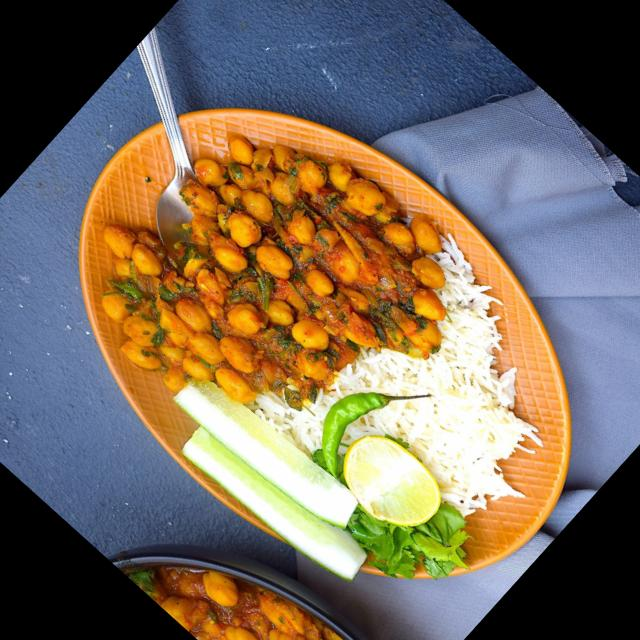Chole: (47, 58, 501, 510), (115, 491, 411, 640)
rice: (252, 214, 622, 584)
